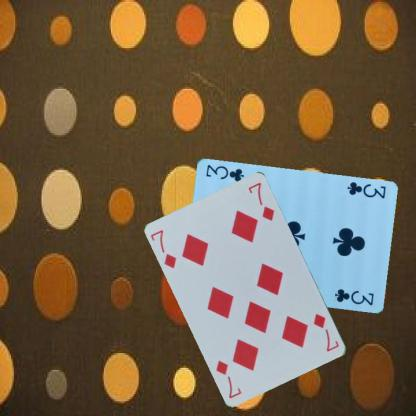3c: (344, 180, 387, 200)
7d: (311, 310, 341, 354), (148, 227, 178, 270)
